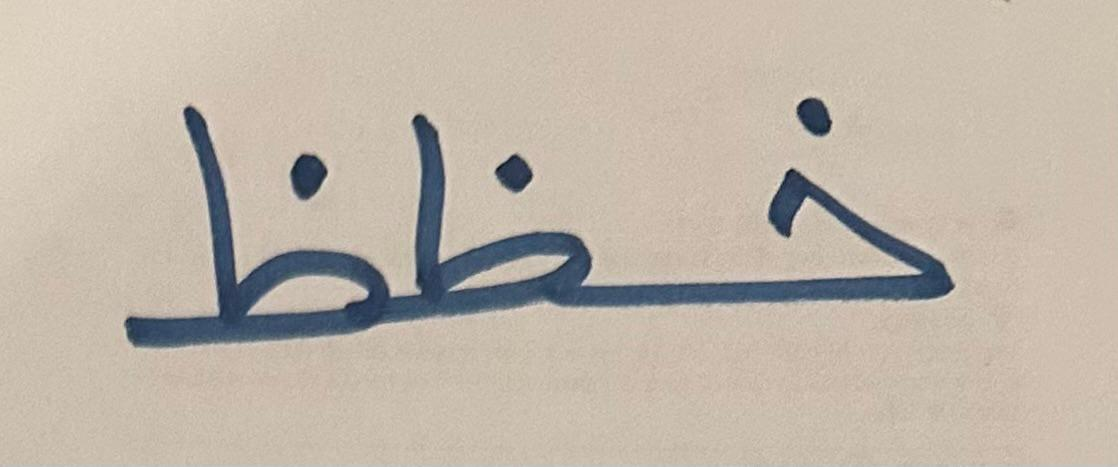lam: (645, 49, 1001, 354)
zain: (42, 21, 395, 386), (397, 58, 640, 363)
